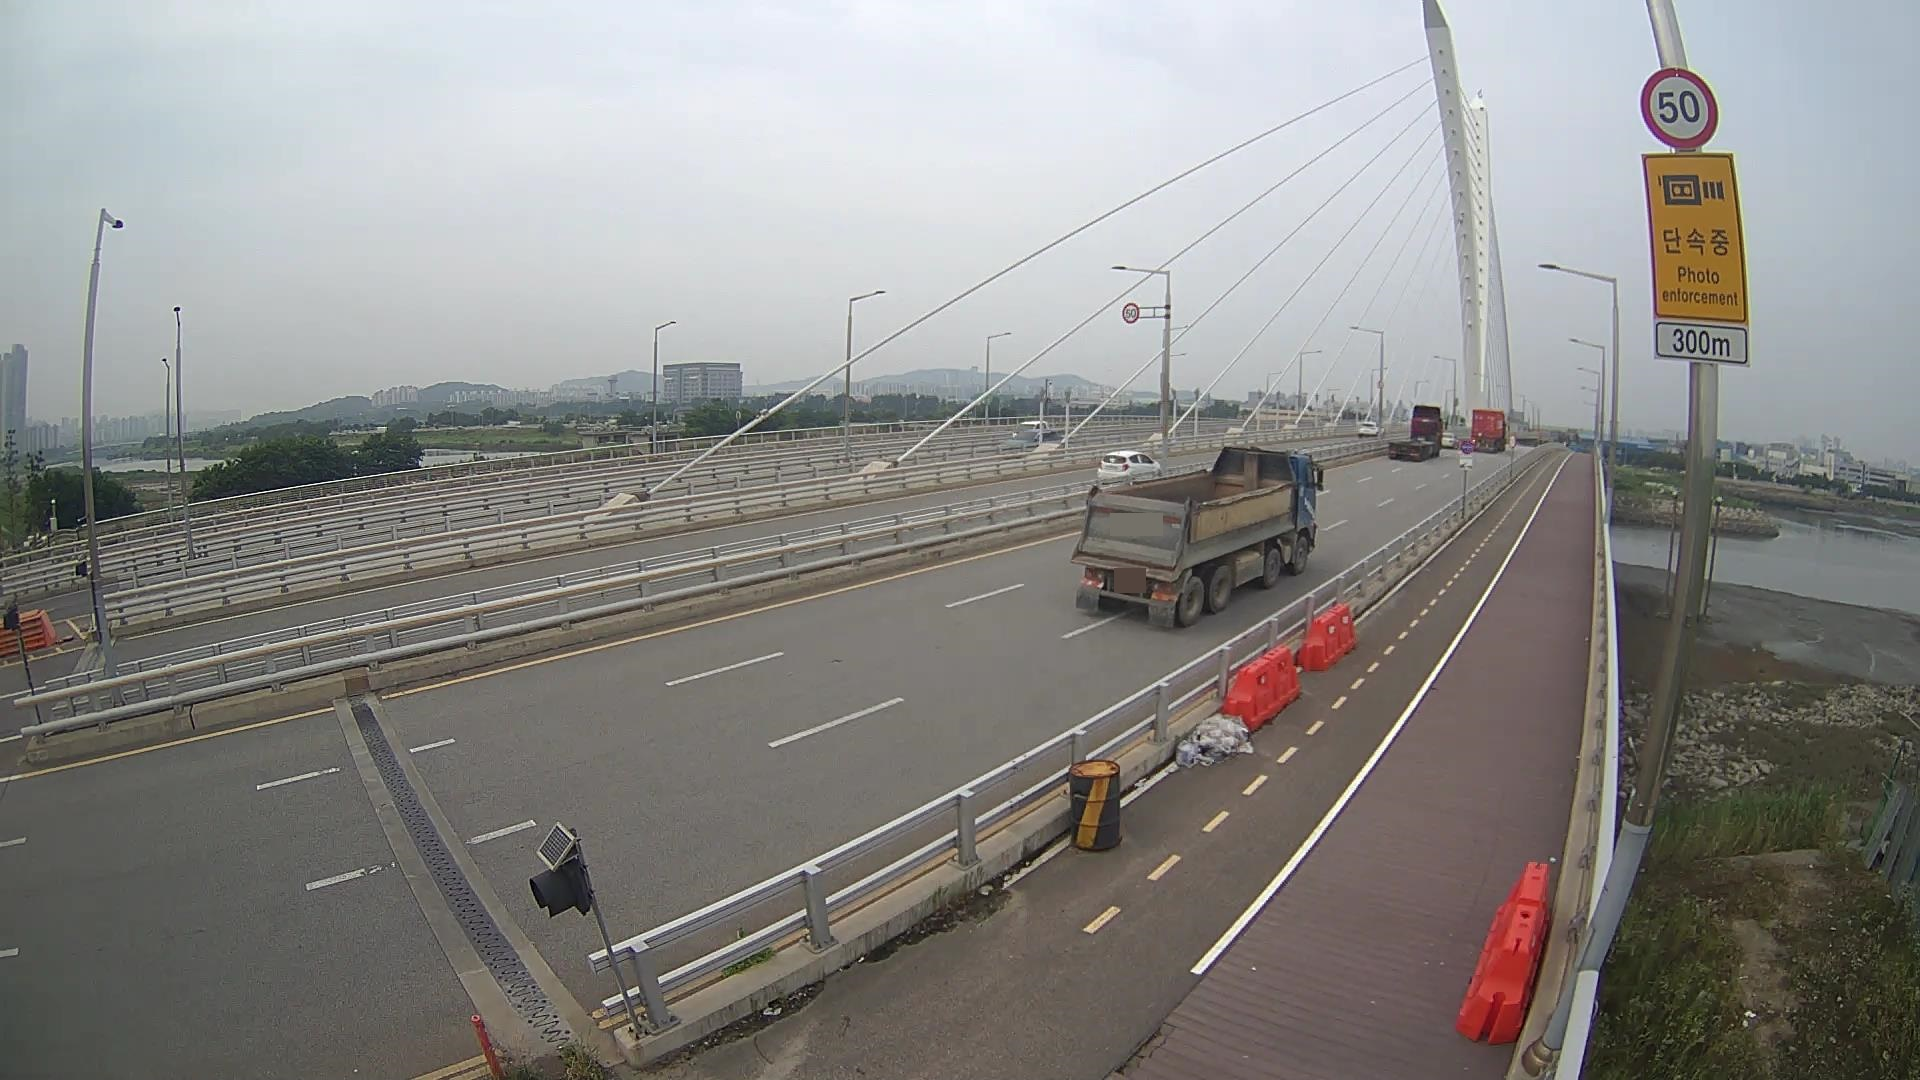정상차량: (1069, 447, 1324, 628)
